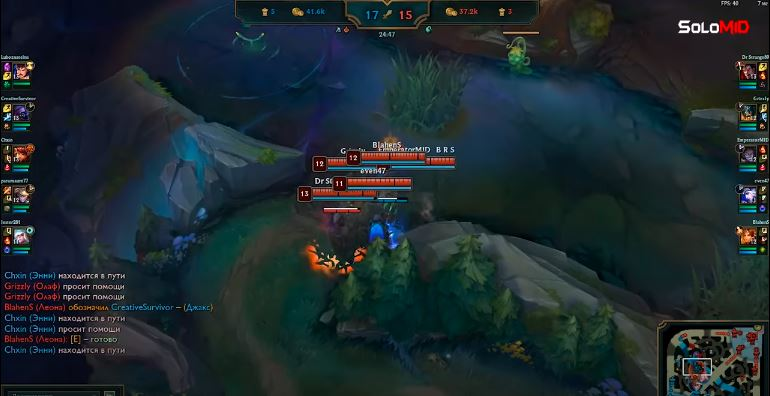dog: (295, 184, 381, 203), (375, 153, 457, 172), (330, 175, 415, 192), (309, 155, 393, 172), (342, 150, 429, 166)
